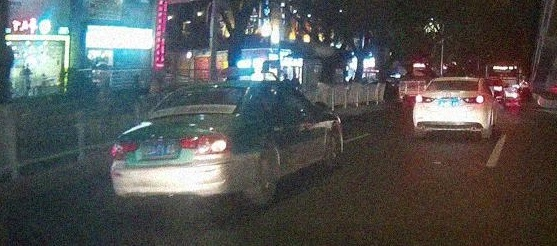L_light: (109, 140, 139, 159), (415, 94, 437, 104)
R_light: (179, 132, 232, 154), (460, 95, 485, 104)
T_light: (200, 85, 221, 90), (446, 79, 461, 82)
night-no: (412, 77, 489, 138)
night-right: (109, 80, 253, 211)
